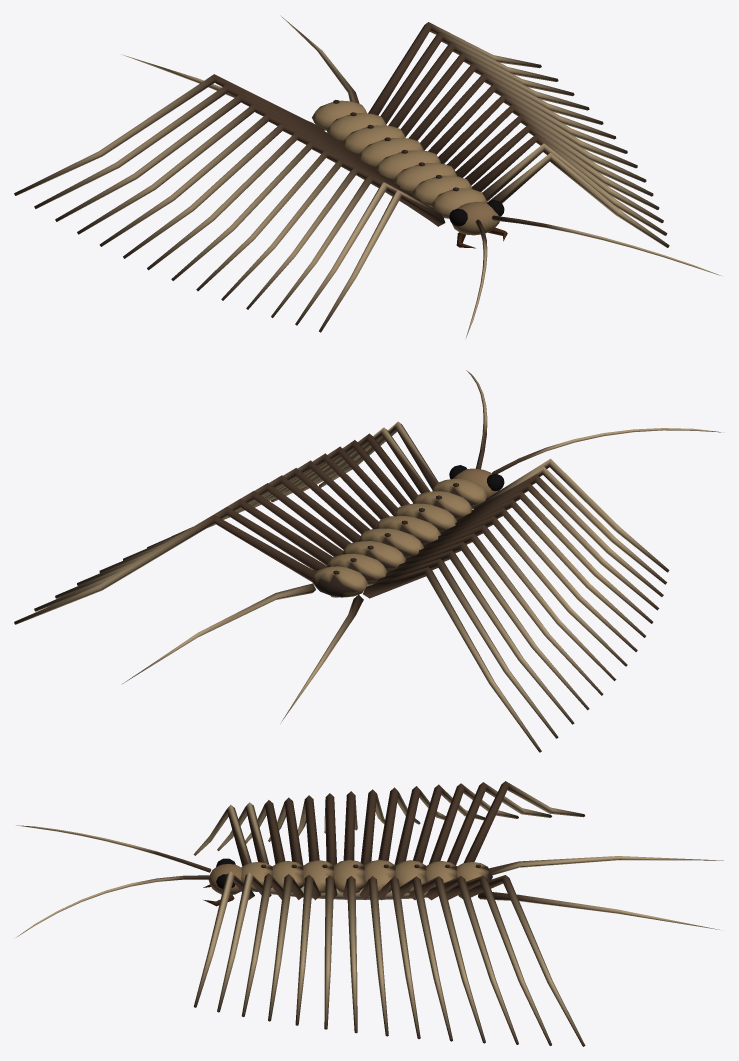
File: Latzelia.fbx
3 views of the same model, one above another, from view 1: azimuth 30°, elevation 25°; view 2: azimuth 150°, elevation 25°; view 3: azimuth 270°, elevation 25° (orthographic). The views are drawn at different scales.
Visible parts, largest first — view 1: Latzelia; view 2: Latzelia; view 3: Latzelia.
Boxes of the visible parts, x1=… form: Latzelia: x1=14, y1=15, x2=721, y2=337; Latzelia: x1=14, y1=370, x2=721, y2=752; Latzelia: x1=16, y1=781, x2=723, y2=1046.
Size of the model in its own units: 1.38 by 0.2904 by 1.8.
